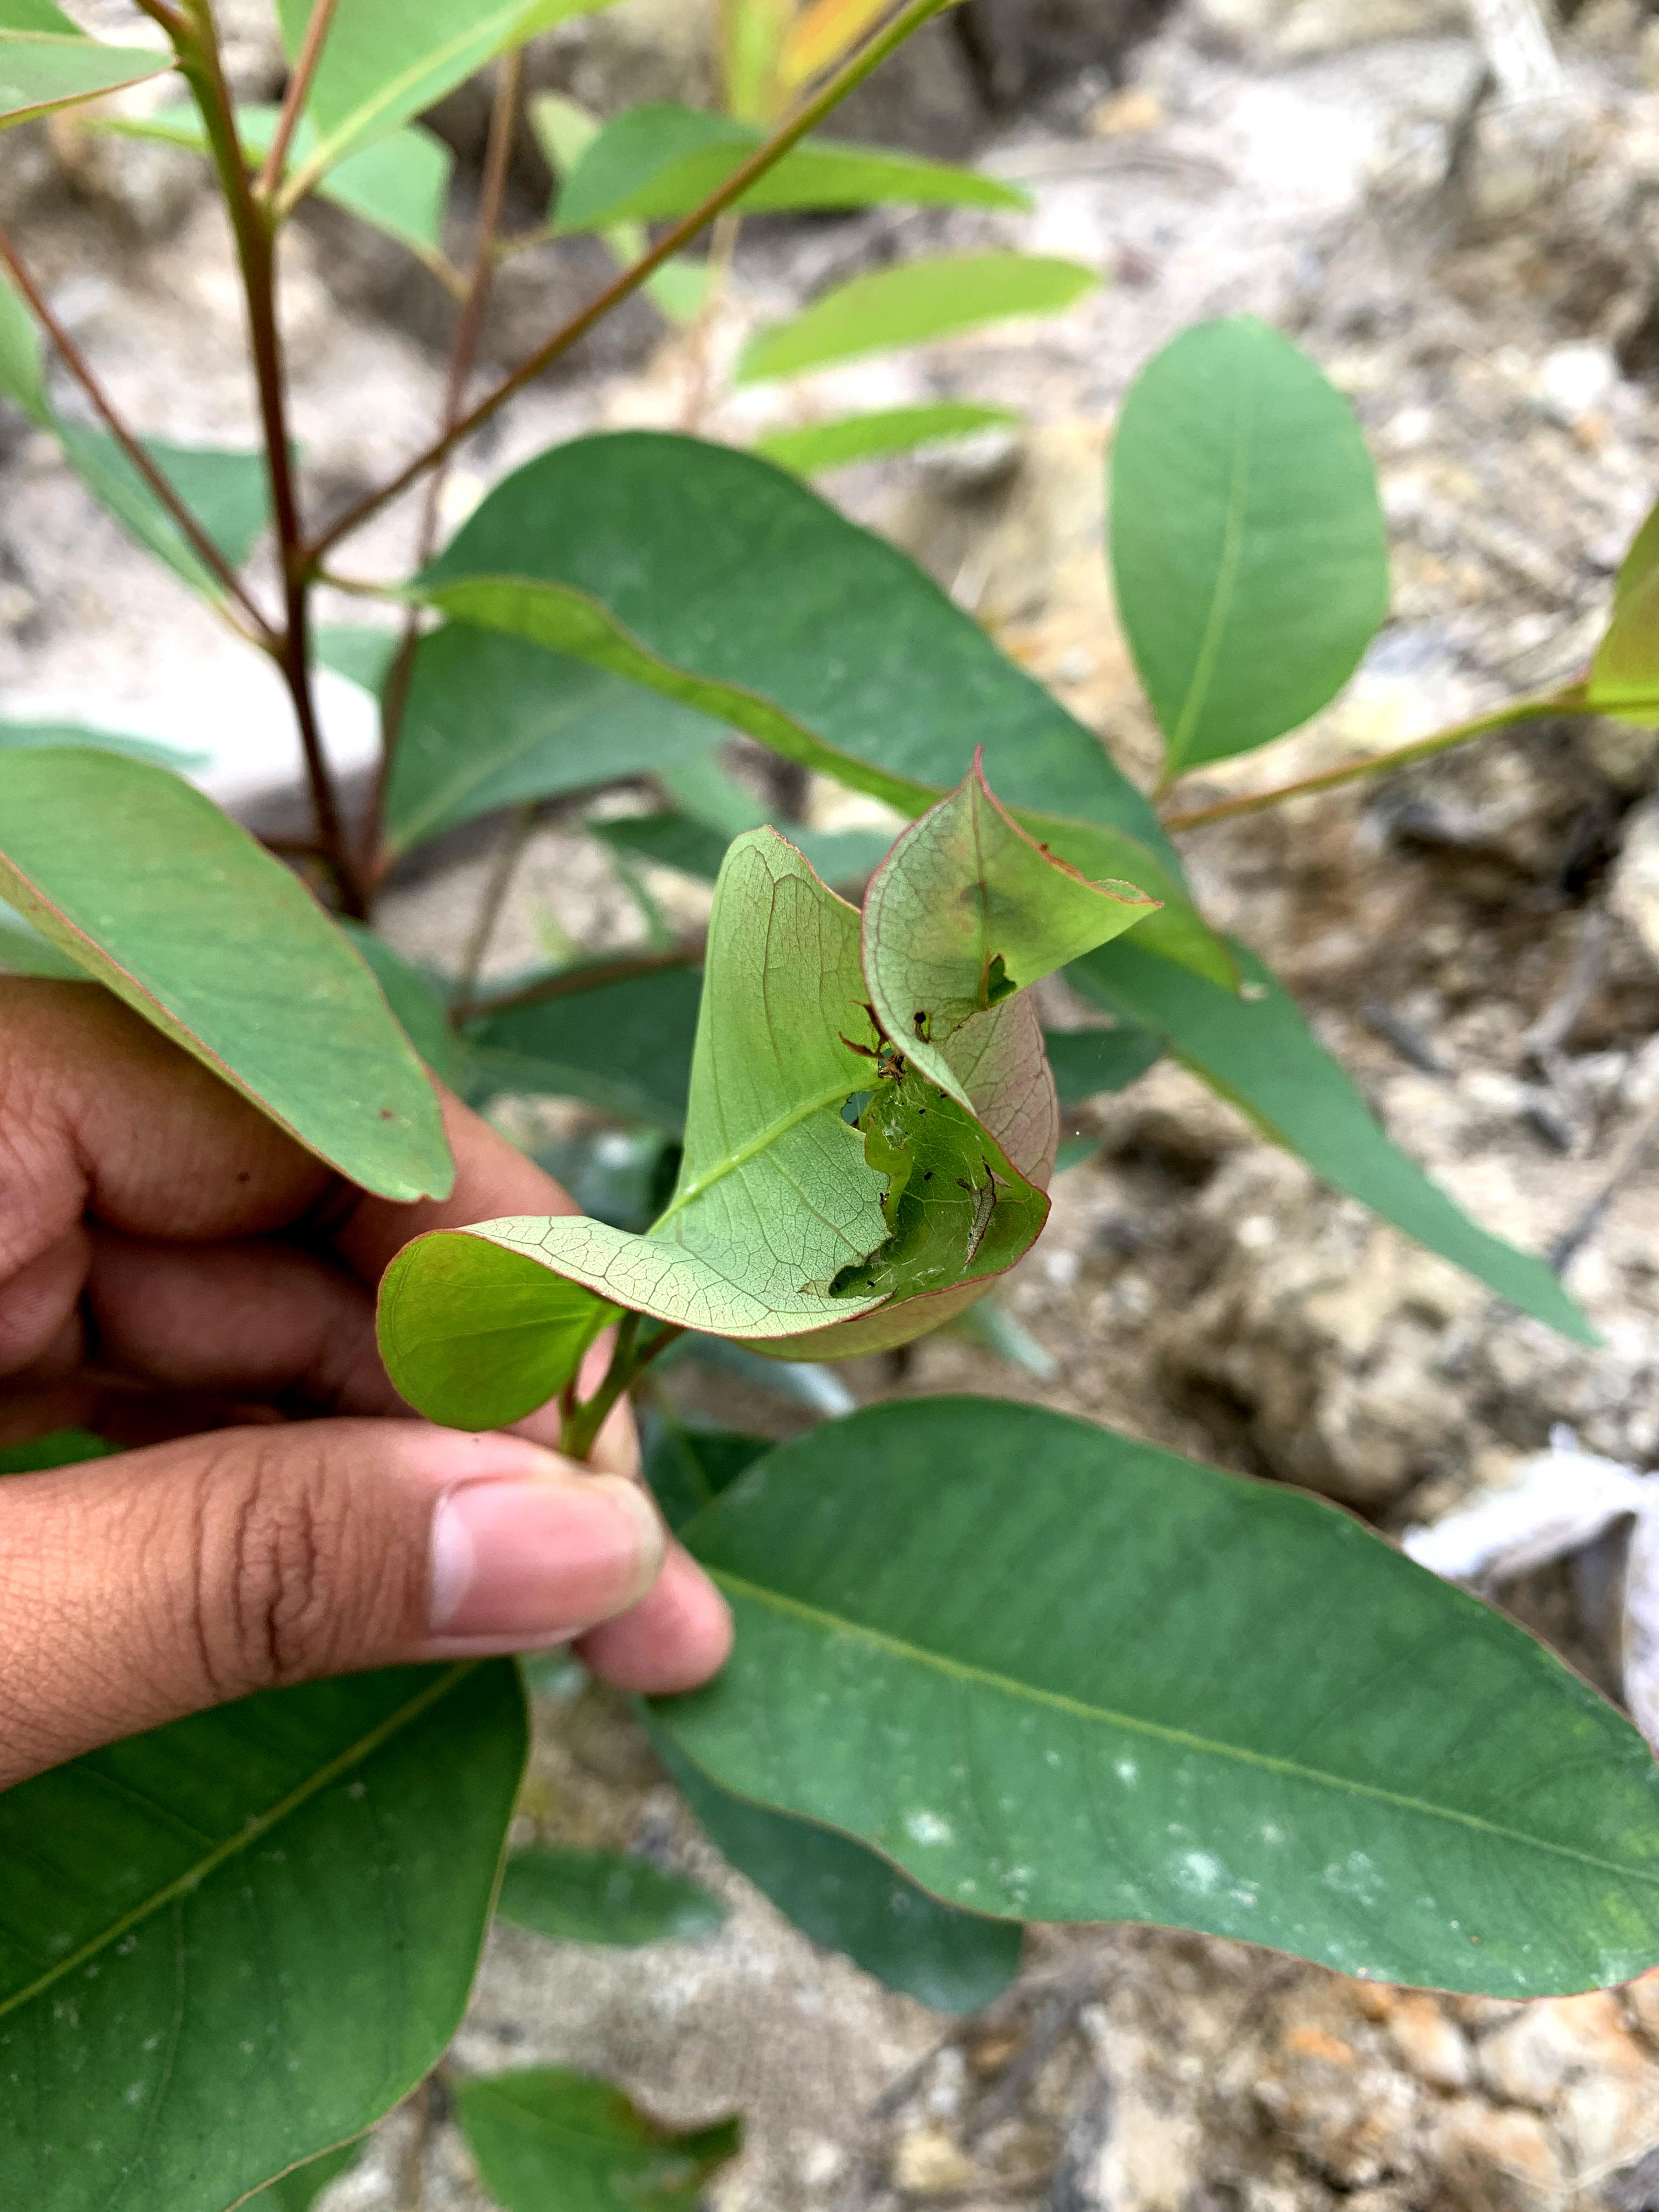Leaf Roller - Leaf: (433, 747, 1142, 1487)
